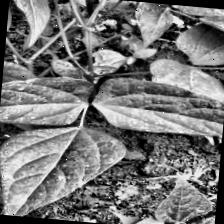Bean Rust: (0, 122, 128, 224), (90, 75, 224, 135), (0, 72, 94, 129)
